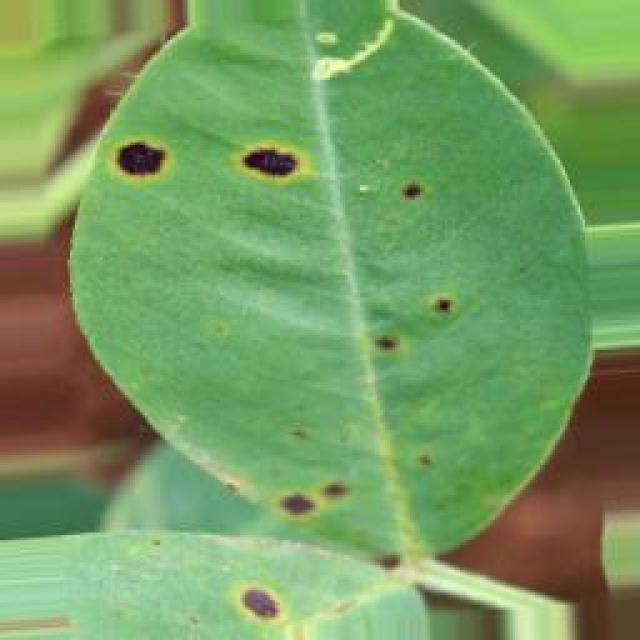Sigatoka: (212, 118, 312, 210), (103, 123, 188, 212), (257, 450, 350, 516), (358, 319, 421, 392), (231, 586, 309, 640), (392, 158, 439, 230), (428, 287, 469, 332)
